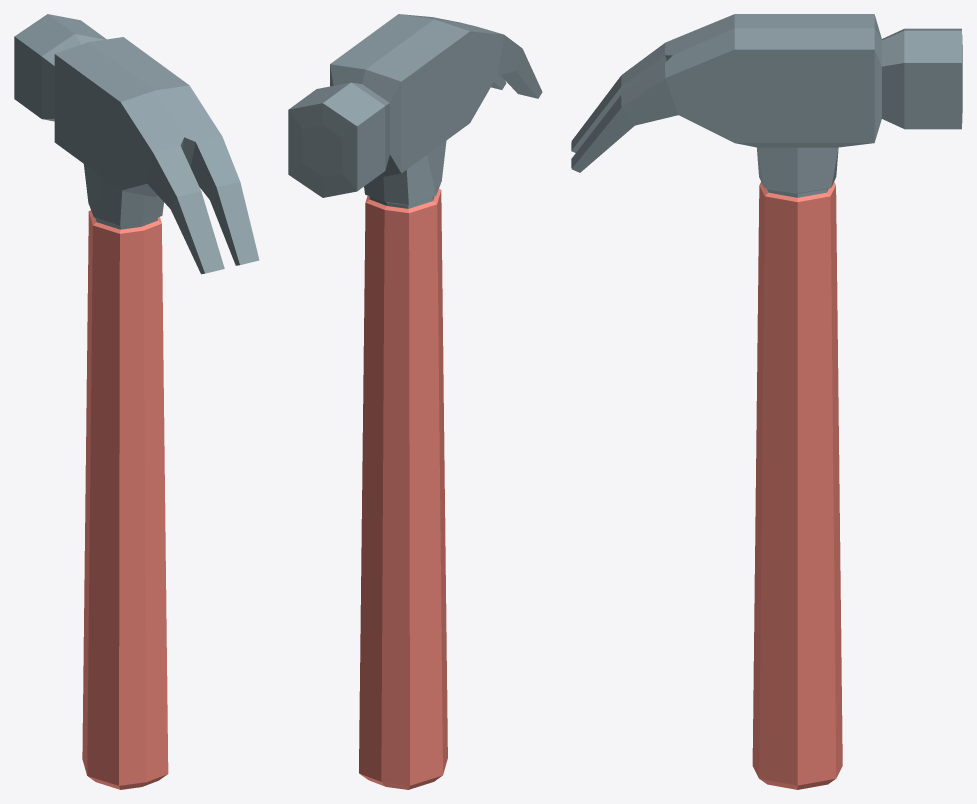
The model's file is hammer.gltf.
3 renders of one model, left to right at view 1: azimuth 30°, elevation 25°; view 2: azimuth 150°, elevation 25°; view 3: azimuth 270°, elevation 25°, orthographic. The views are drawn at different scales.
Visible parts, largest first — view 1: node-0; view 2: node-0; view 3: node-0.
Part boxes in pixels (left/top/right/bottom): node-0: left=14, top=14, right=259, bottom=789; node-0: left=288, top=14, right=542, bottom=789; node-0: left=571, top=14, right=962, bottom=789.
Bounding box in the file's own units: 1.15 × 10.17 × 4.83.
